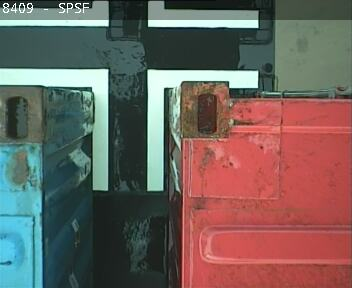groundmarker_1: (1, 68, 256, 191), (1, 1, 258, 28)
